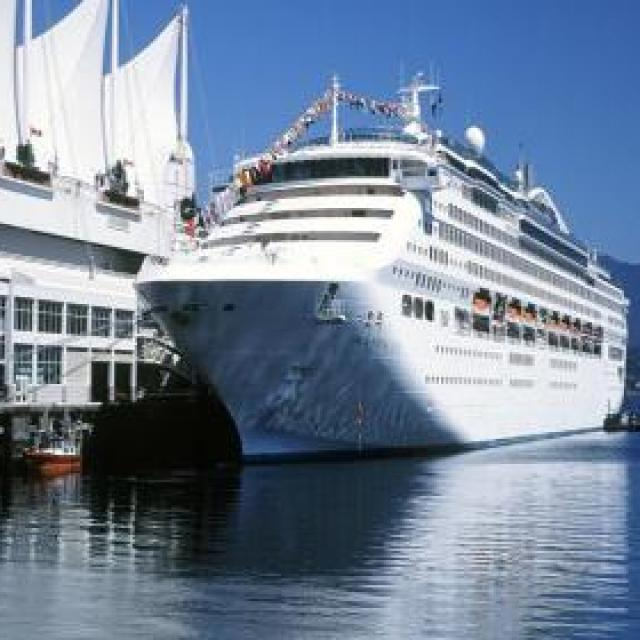passenger ship: (134, 98, 634, 454)
